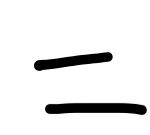eqv: (30, 50, 148, 116)
